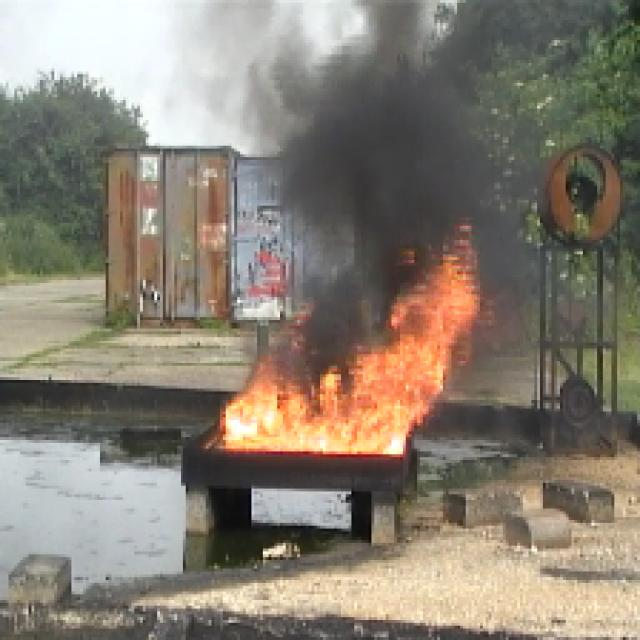fire: (223, 376, 414, 456), (395, 264, 455, 392)
smoke: (299, 50, 480, 248)
